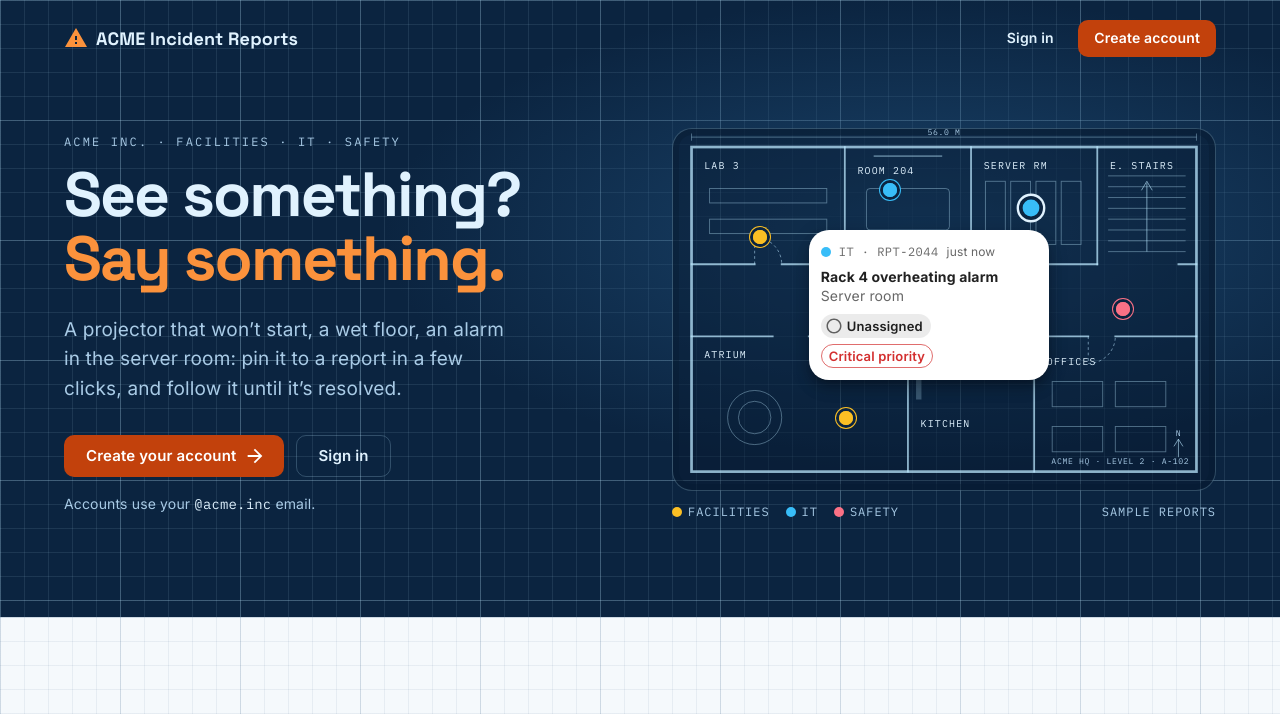
Test: LandingPage › opens the sign-up form from the top bar
Expected: the heading "See something? Say something." is shown, [64, 155, 520, 298]
Click the link "Create account" at (1147, 38), box [1078, 20, 1216, 56]
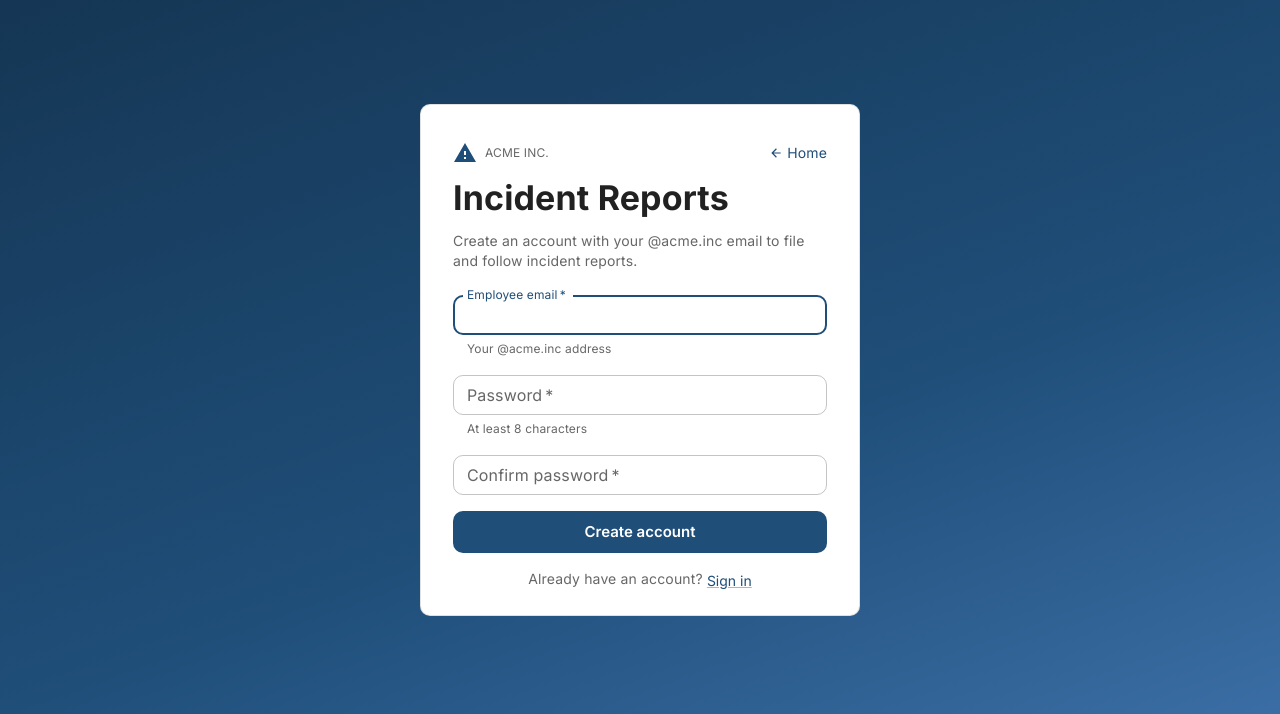
Expected: the button "Create account" is shown, [453, 511, 827, 553]
Result: the password field labelled "Confirm password *" is shown at [453, 455, 827, 495]
